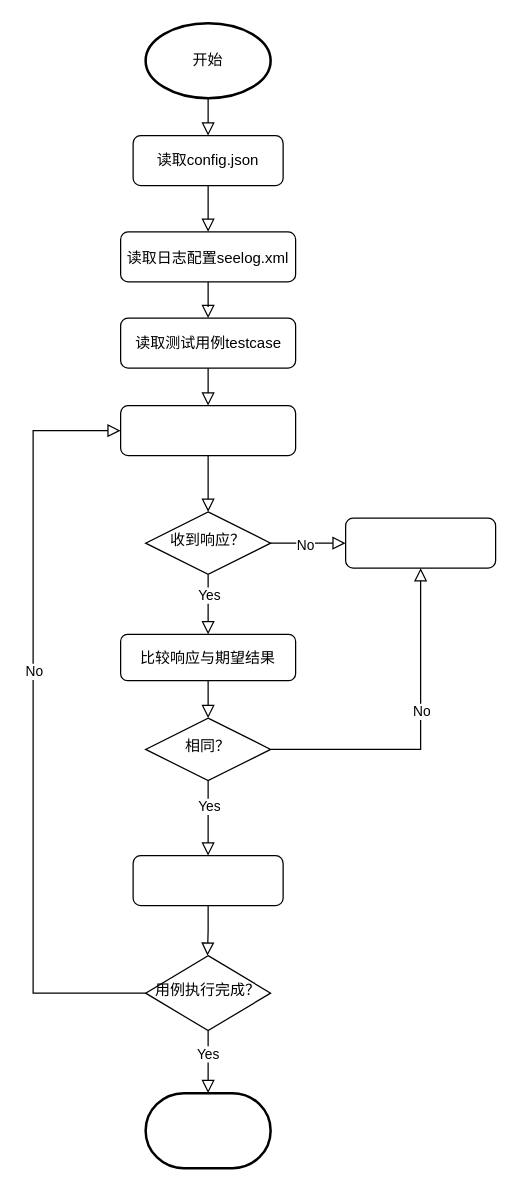
This 518x1190 diagram has some shape labels left out. The shapes that lost their labels are listed below. From the top down, each one's centre as x and y in pixels, then its label:
the point at 207,430: 发送用例中的请求
the point at 420,542: 失败次数+1
the point at 207,880: 成功次数+1
the point at 207,1130: 结束
